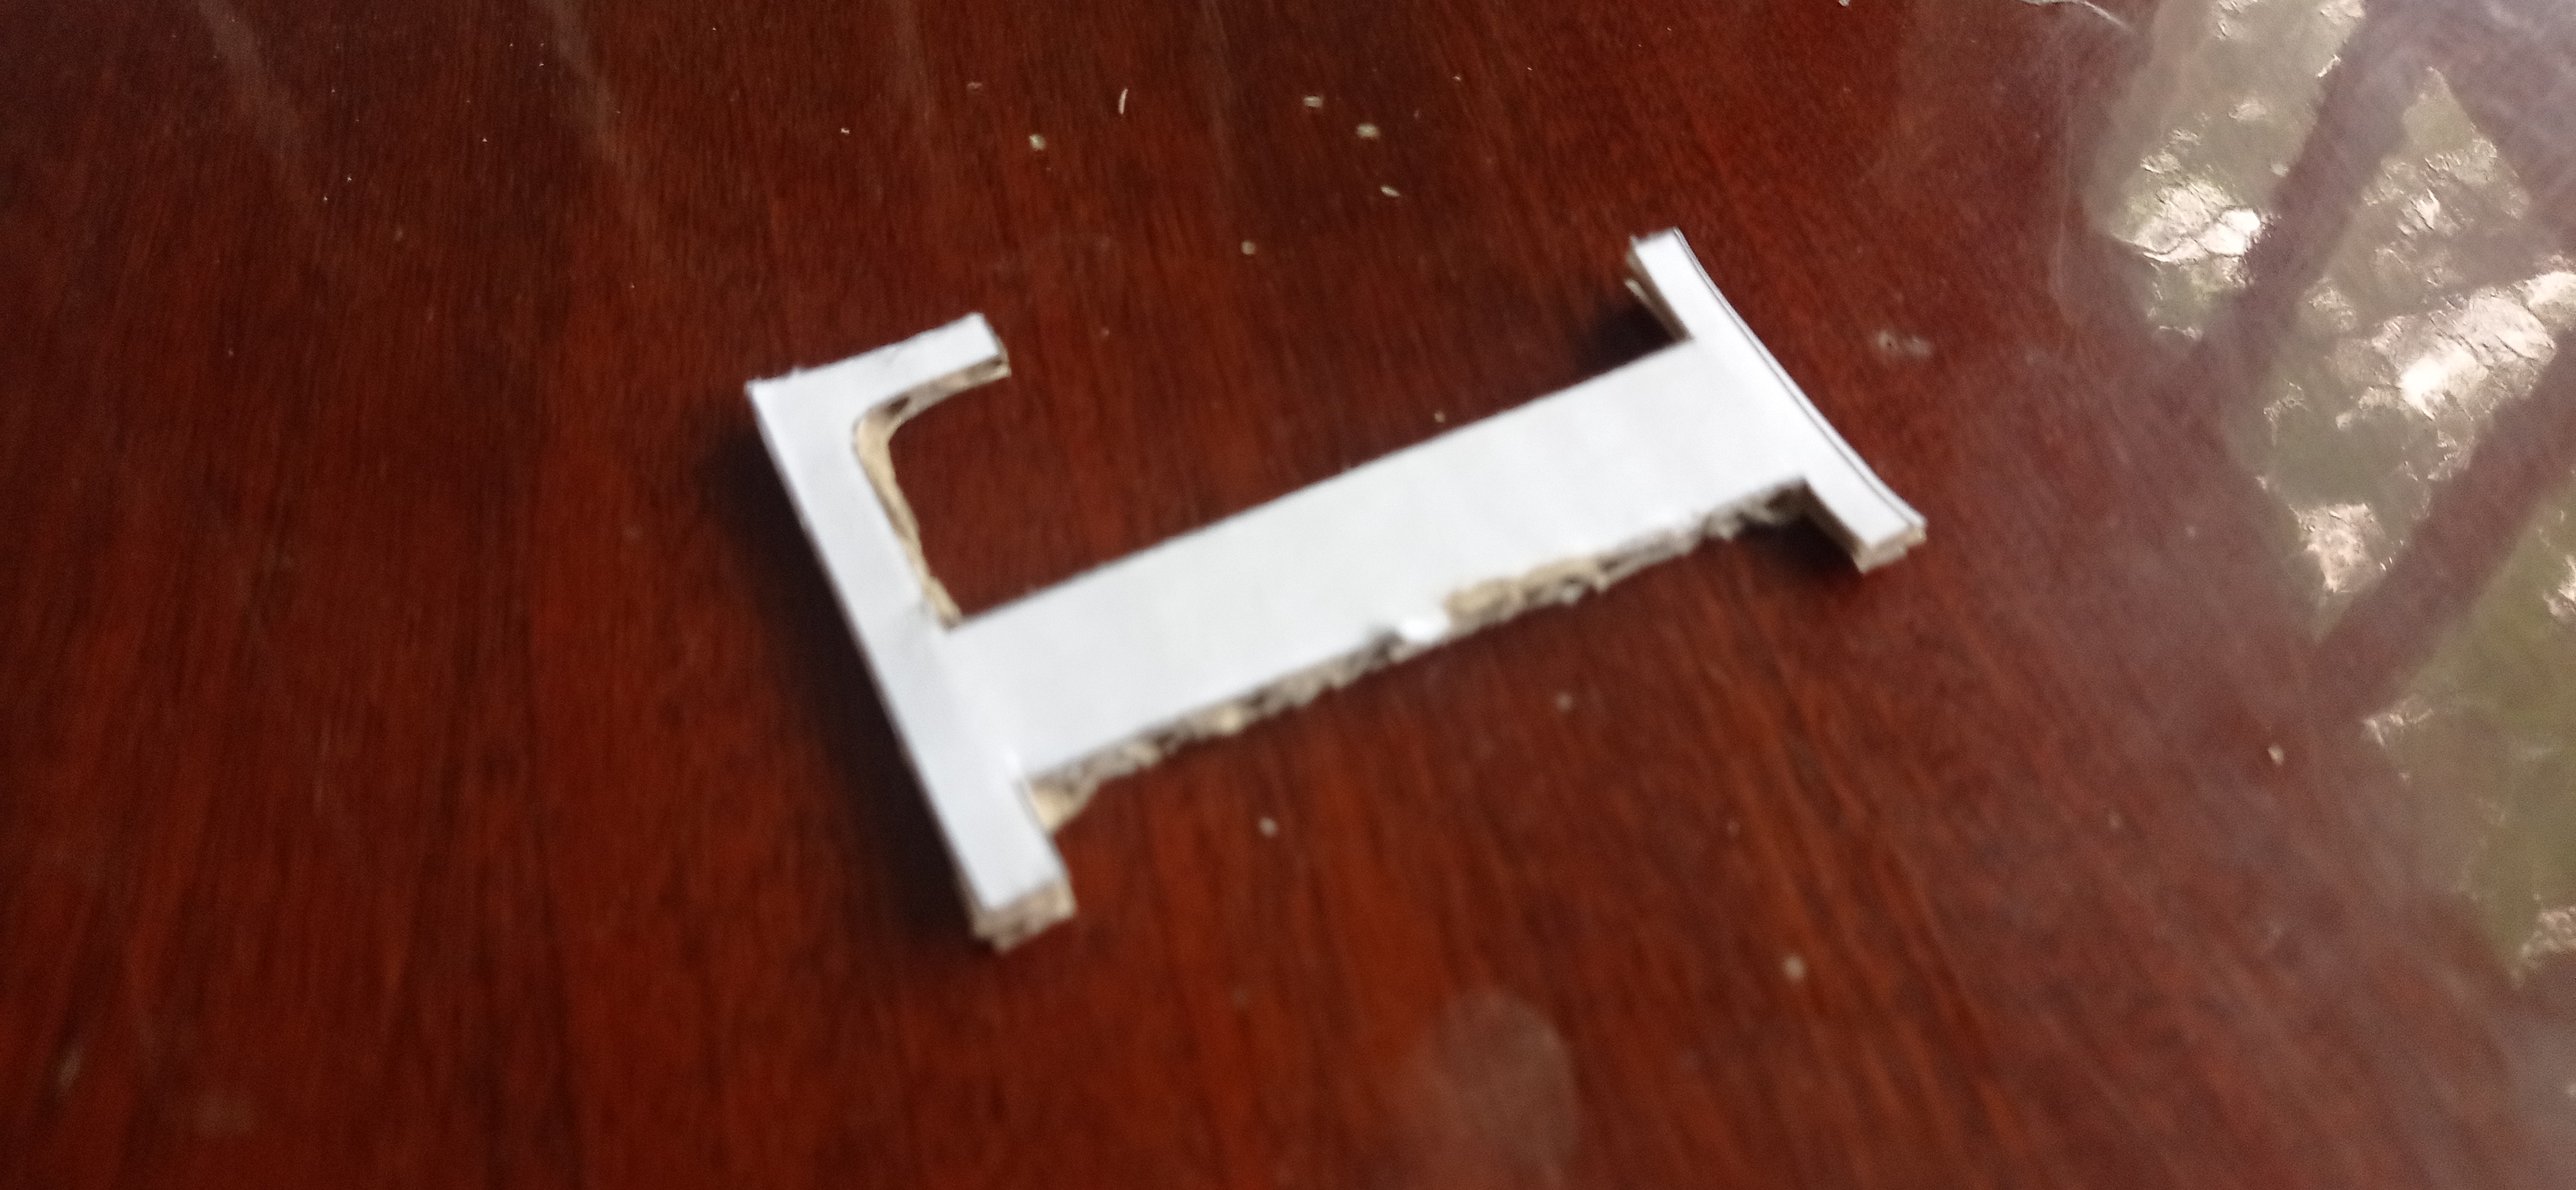g: (743, 228, 1929, 960)
